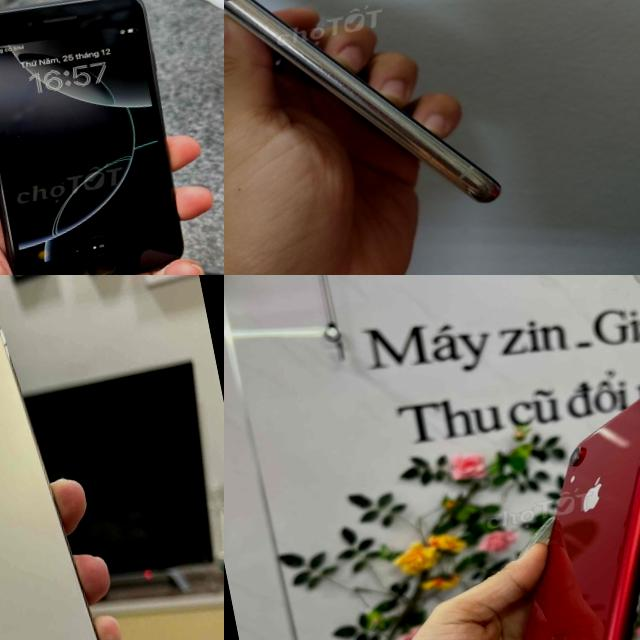gen_11: (224, 0, 517, 265)
gen_12_13: (0, 291, 152, 640)
gen_7_8: (0, 0, 197, 275)
gen_x_xs: (444, 384, 640, 640)
